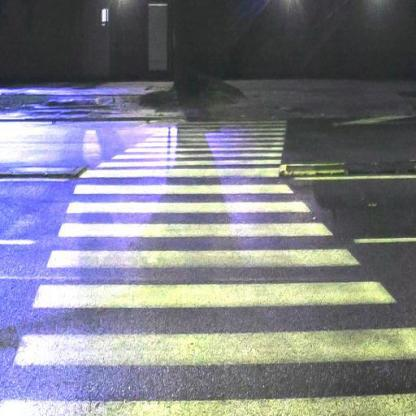crosswalk: (11, 271, 416, 373), (65, 180, 313, 216)
